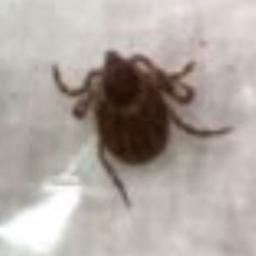Rhipicephalus sanguineus: (53, 50, 235, 207)
